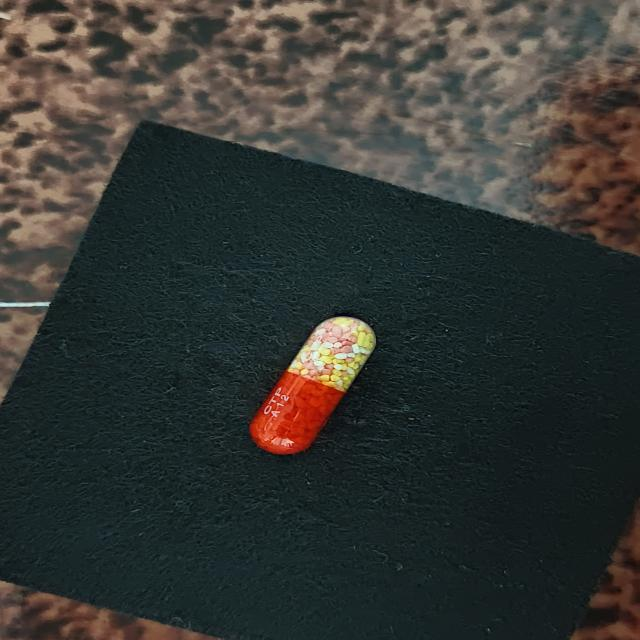Intact Capsule: (250, 316, 376, 454)
